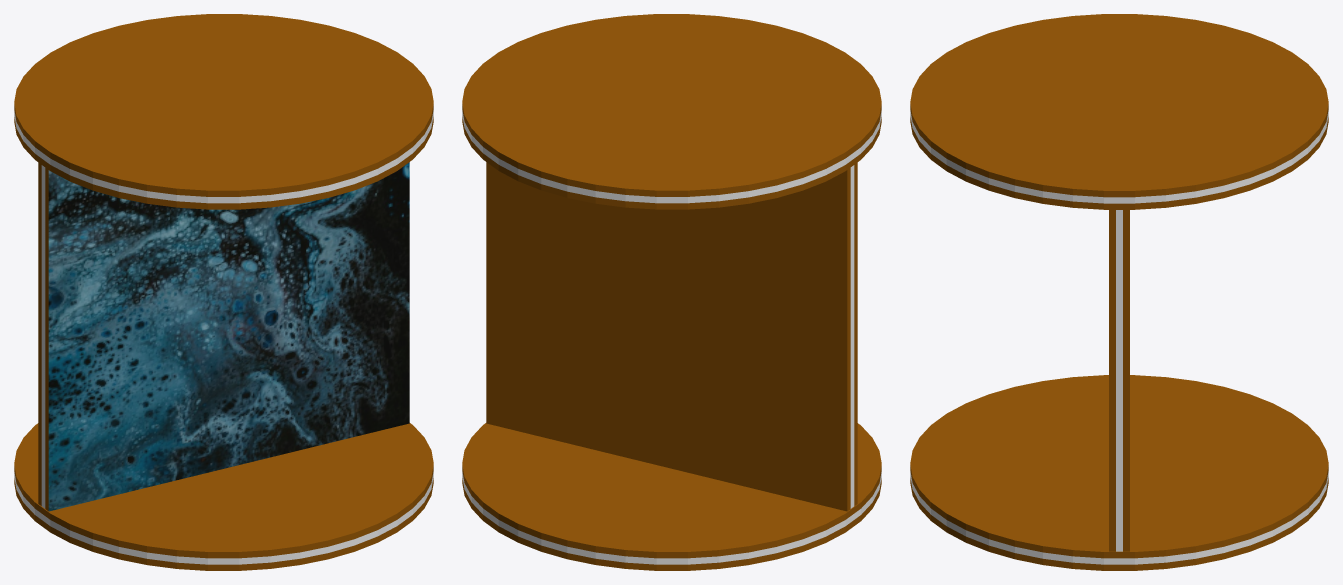
Rendered from valve_8.glb.
3 renders of one model, left to right at view 1: azimuth 30°, elevation 25°; view 2: azimuth 150°, elevation 25°; view 3: azimuth 270°, elevation 25°, orthographic.
Parts seen in each view (by area): view 1: Cube.017; view 2: Cube.017; view 3: Cube.017.
Part boxes in pixels (x1=…): Cube.017: x1=14, y1=14, x2=433, y2=570; Cube.017: x1=462, y1=14, x2=881, y2=570; Cube.017: x1=910, y1=14, x2=1328, y2=570.
Size of the model in its own units: 2 by 2 by 2.
3 materials, 1 textured.
